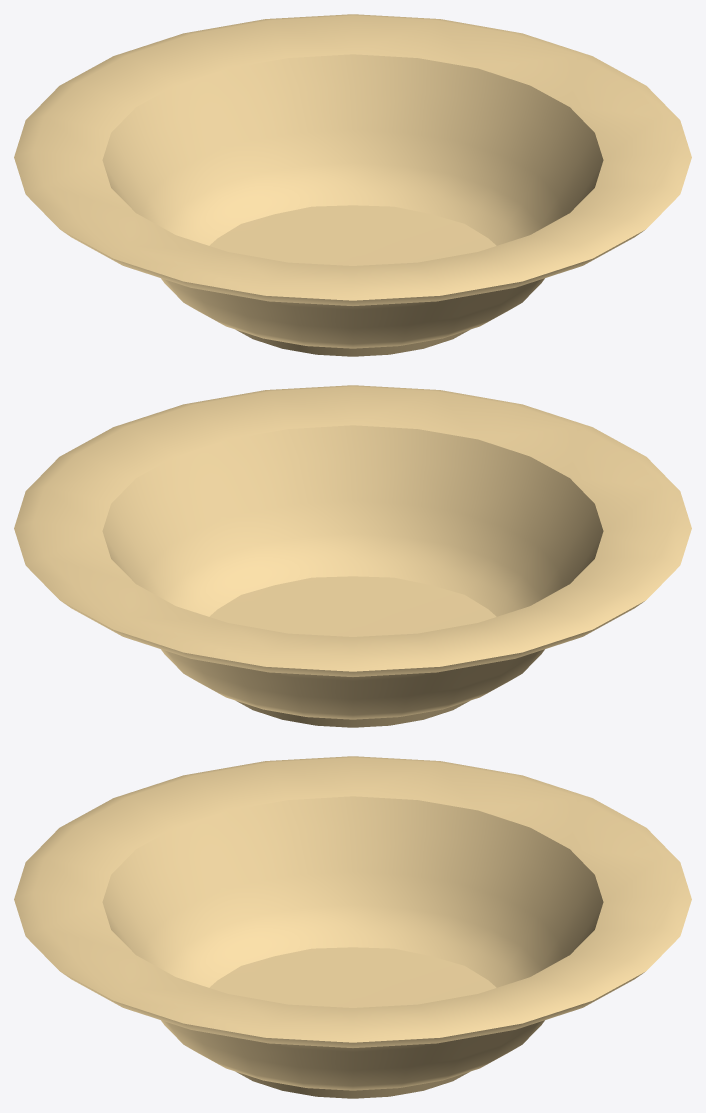
The model's file is SE_107_plate.glb.
The picture shows the model from 3 angles, top to bottom: view 1: azimuth 30°, elevation 25°; view 2: azimuth 150°, elevation 25°; view 3: azimuth 270°, elevation 25°; orthographic projection.
Parts seen in each view (by area): view 1: plate; view 2: plate; view 3: plate.
Boxes of the visible parts, <box> form: plate: <box>14,14,691,356</box>; plate: <box>14,385,691,727</box>; plate: <box>14,756,691,1098</box>.
Bounding box in the file's own units: 0.5739 × 0.1367 × 0.5739.
